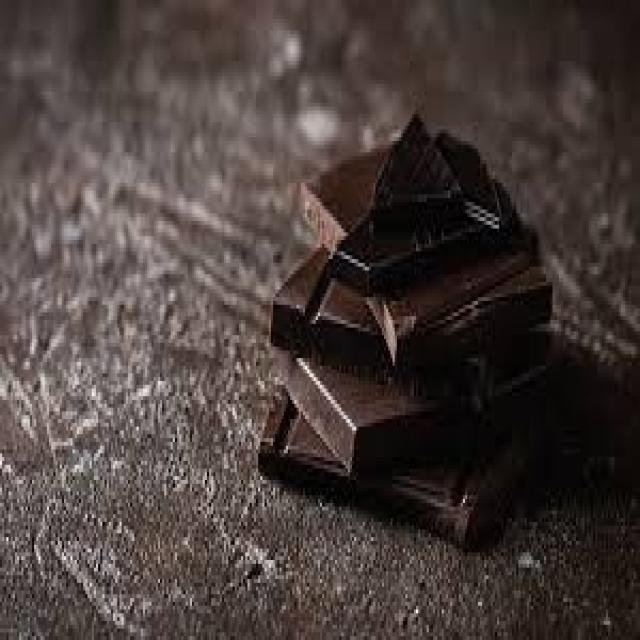Chocolate: (258, 106, 554, 544)
